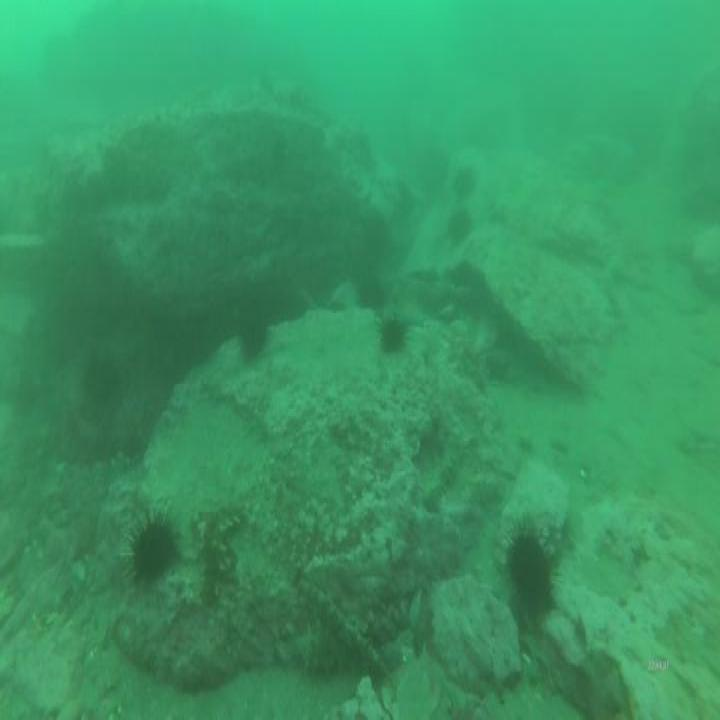echinus: (502, 518, 561, 627), (123, 498, 182, 597), (80, 341, 125, 409), (232, 298, 273, 364), (378, 311, 409, 357), (355, 274, 389, 311), (447, 202, 473, 250), (452, 163, 477, 202)
holothurian: (296, 624, 361, 679), (199, 503, 246, 578), (419, 444, 459, 506)
